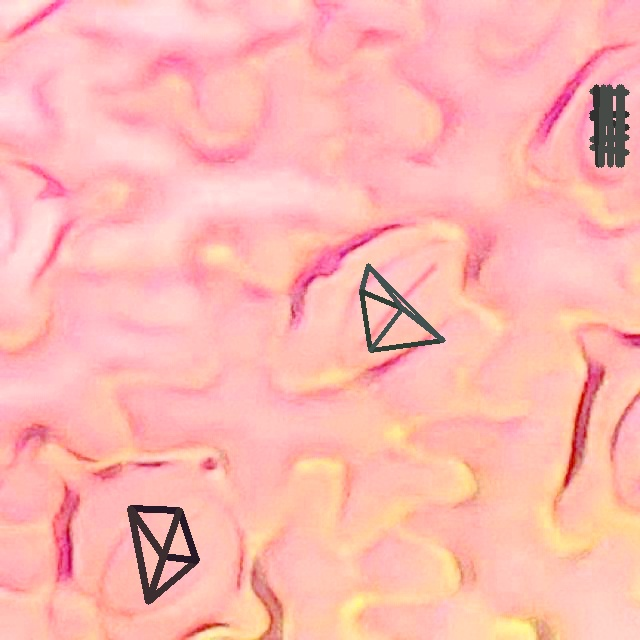close: (359, 263, 445, 352), (127, 507, 199, 604), (589, 84, 629, 167)
